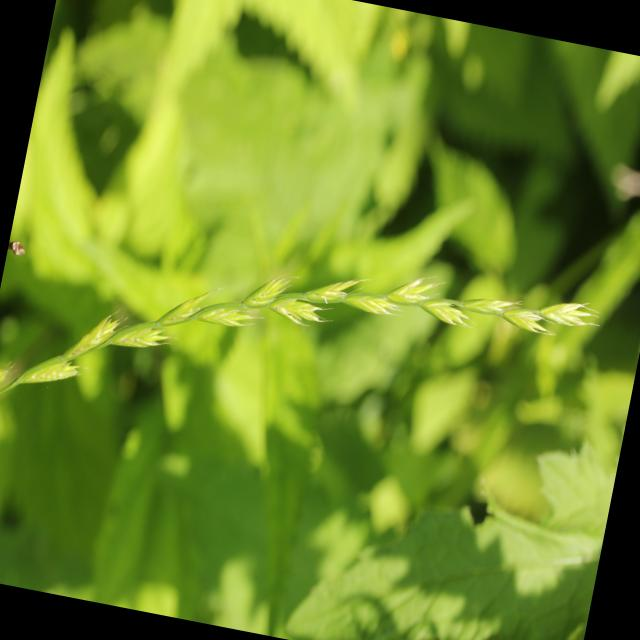Lolium: (0, 184, 608, 524)
